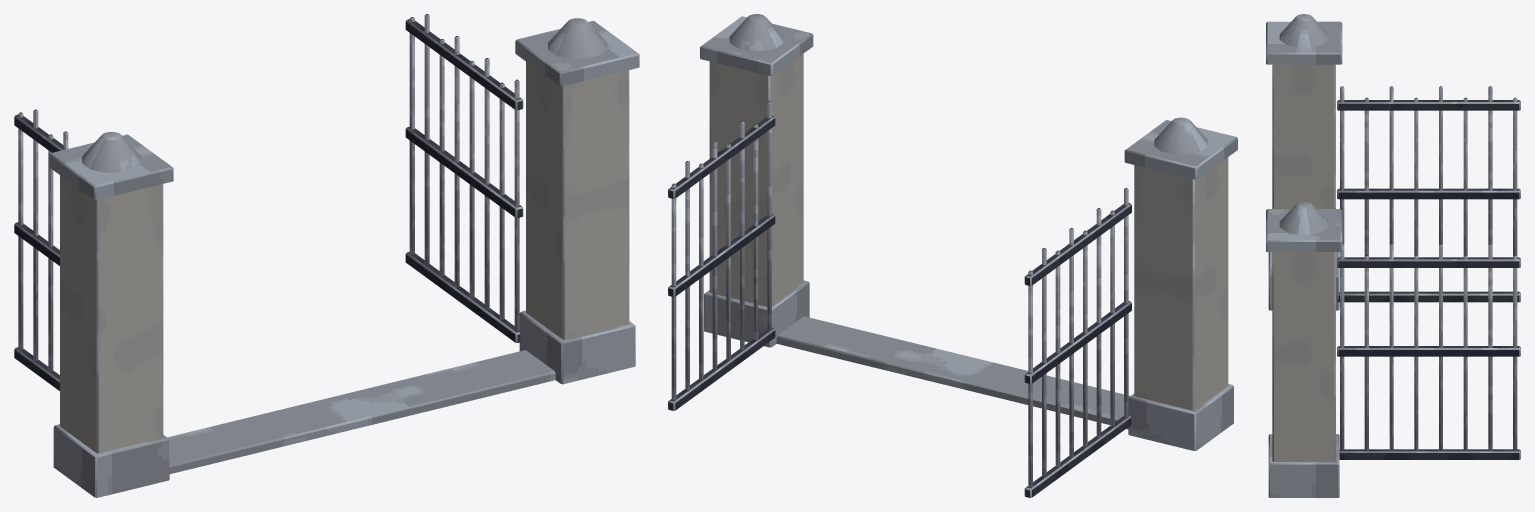
Rendered from cn_courtyard_gate_1.glb.
The picture shows the model from 3 angles, left to right: view 1: azimuth 30°, elevation 25°; view 2: azimuth 150°, elevation 25°; view 3: azimuth 270°, elevation 25°; orthographic projection. The views are drawn at different scales.
Visible parts, largest first — view 1: cn_courtyard_gate_2; view 2: cn_courtyard_gate_2; view 3: cn_courtyard_gate_2.
Part boxes in pixels (left/top/right/bottom): cn_courtyard_gate_2: left=14, top=14, right=639, bottom=497; cn_courtyard_gate_2: left=668, top=14, right=1237, bottom=497; cn_courtyard_gate_2: left=1266, top=14, right=1520, bottom=497.
Bounding box in the file's own units: 4.1 × 2.43 × 2.01.
3 materials, 3 textured.
